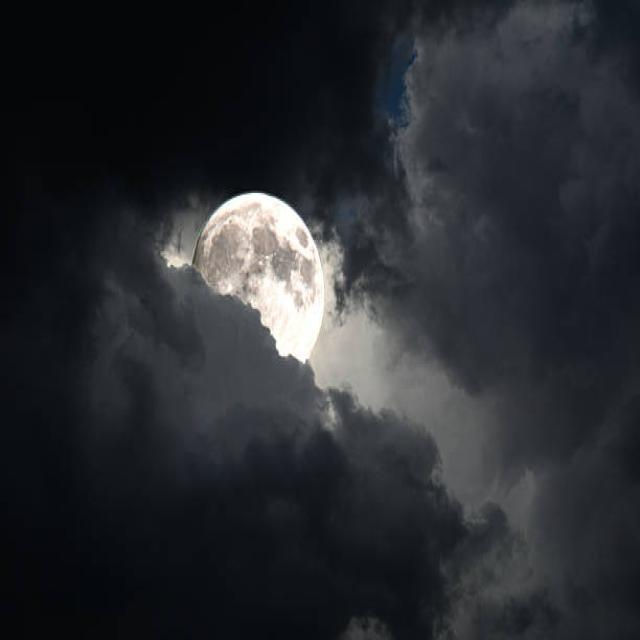moon: (190, 190, 326, 380)
